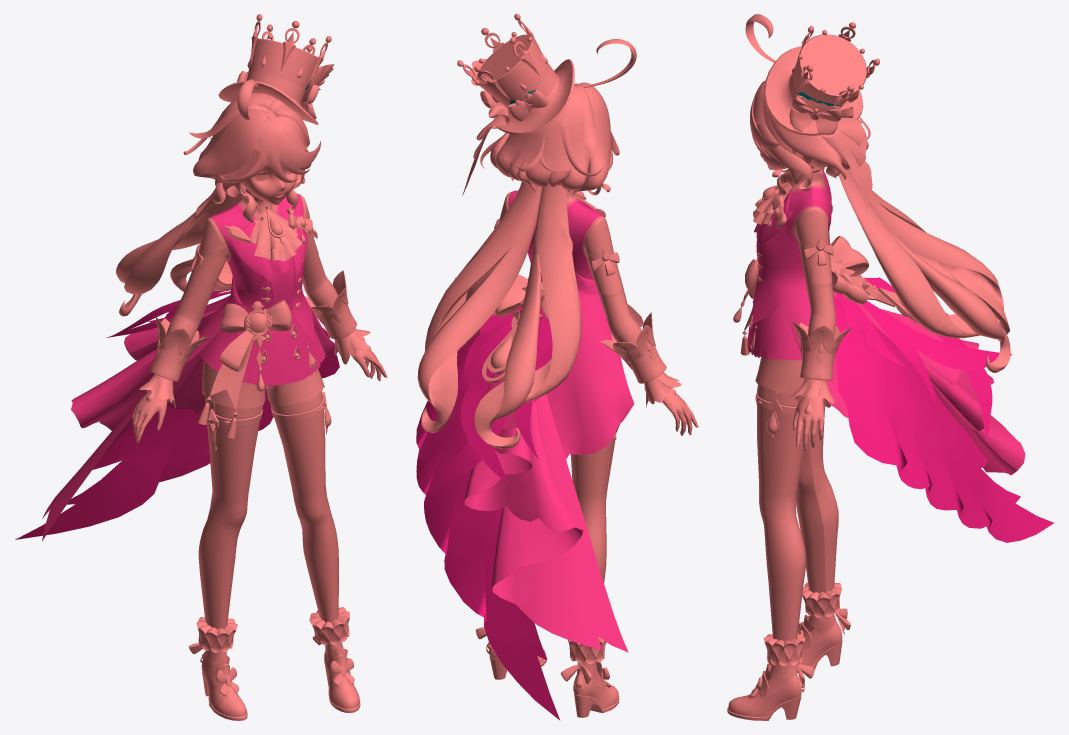
The model's file is FuFu.fbx.
3 views of the same model, side by side, from view 1: azimuth 30°, elevation 25°; view 2: azimuth 150°, elevation 25°; view 3: azimuth 270°, elevation 25° (orthographic).
Parts seen in each view (by area): view 1: FuFu; view 2: FuFu; view 3: FuFu.
Boxes of the visible parts, box(x1,y1,x2,y2) form: FuFu: box(15, 14, 387, 720); FuFu: box(416, 14, 698, 720); FuFu: box(727, 14, 1053, 720).
Bounding box in the file's own units: 72.53 × 75.75 × 173.
